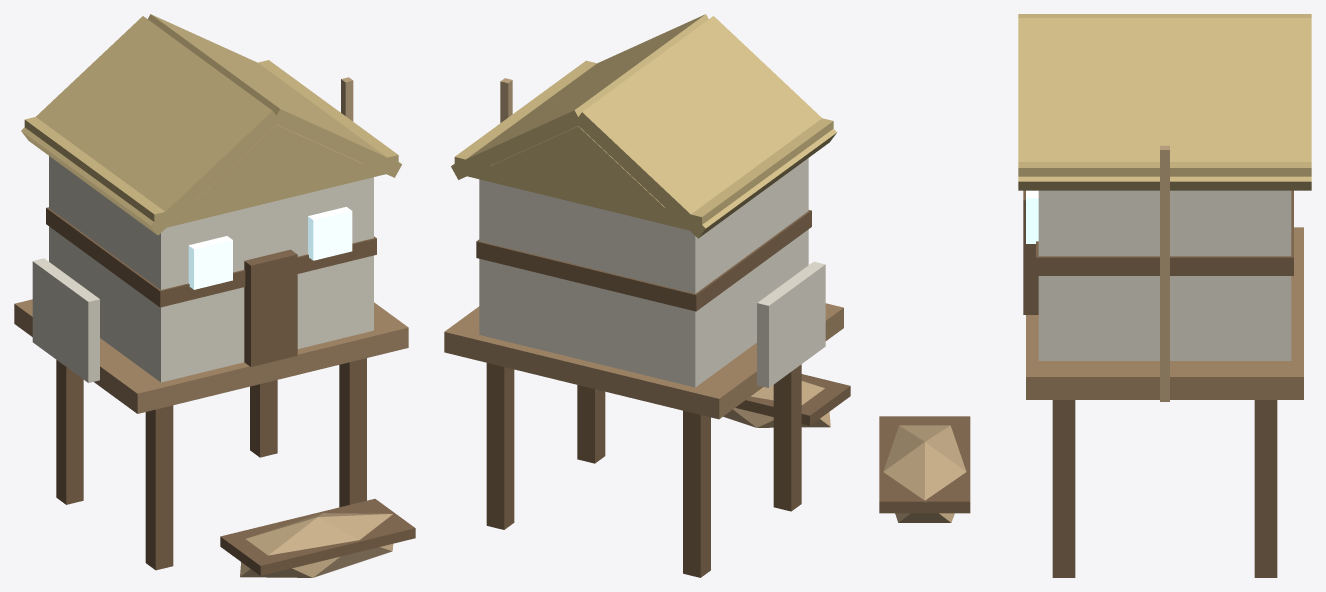
Rendered from fishery.glb.
3 views of the same model, side by side, from view 1: azimuth 30°, elevation 25°; view 2: azimuth 150°, elevation 25°; view 3: azimuth 270°, elevation 25° (orthographic). The views are drawn at different scales.
Visible parts, largest first — view 1: Pile-0.5-0.4; view 2: Pile-0.5-0.4; view 3: Pile-0.5-0.4.
Boxes of the visible parts, x1,y1,x2,y2 form: Pile-0.5-0.4: (14, 14, 415, 577); Pile-0.5-0.4: (444, 14, 850, 577); Pile-0.5-0.4: (879, 14, 1311, 577).
Bounding box in the file's own units: 1.5 × 2.2 × 1.71.
